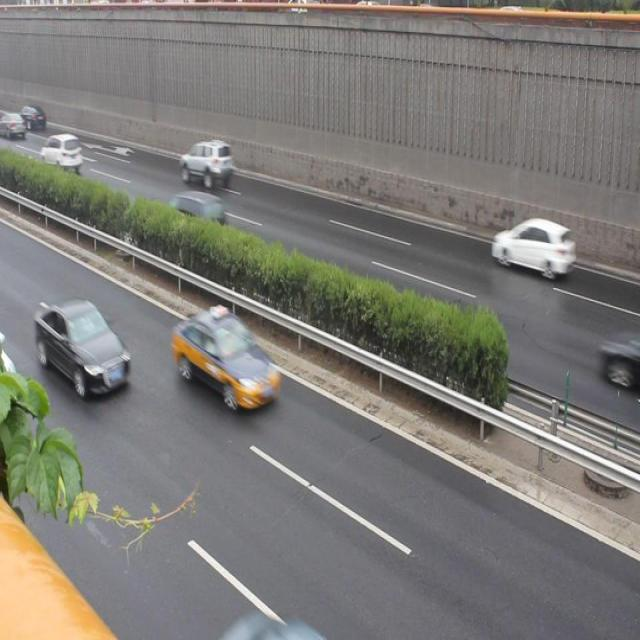car: (170, 300, 275, 414), (30, 296, 134, 404), (483, 211, 578, 282), (592, 323, 640, 403), (211, 609, 332, 640), (170, 184, 227, 238), (176, 137, 233, 184), (42, 132, 85, 178)
